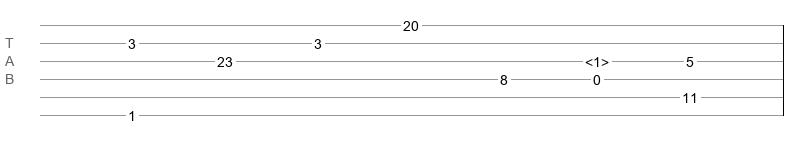0: (593, 72, 601, 82)
1: (128, 108, 136, 118)
11: (682, 90, 698, 100)
20: (403, 18, 419, 28)
23: (217, 54, 233, 64)
3: (128, 36, 136, 46), (314, 36, 322, 46)
5: (686, 54, 694, 64)
8: (500, 72, 508, 82)
harmonic: (585, 54, 609, 64)
